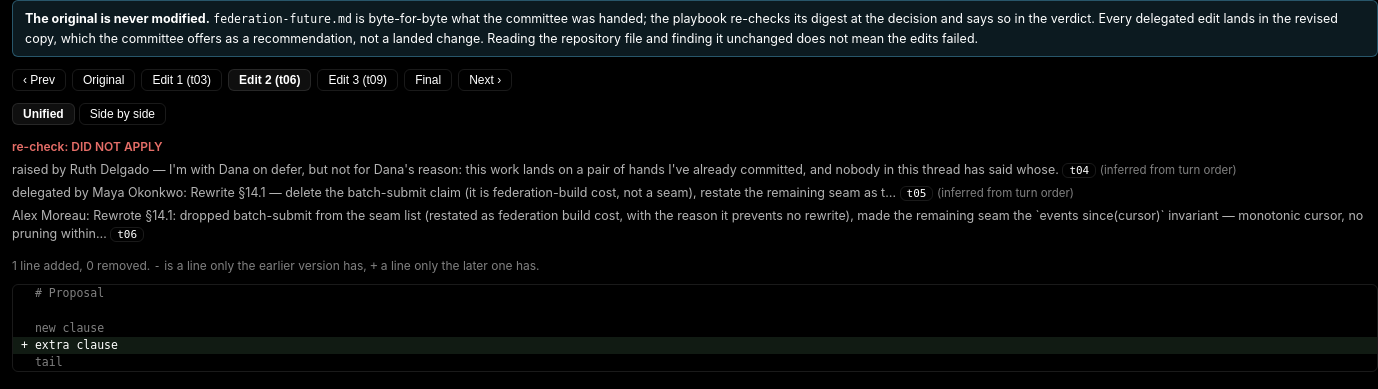
Scenario: DocumentHistory › takes the verdict from verified alone and shows the diff whatever it says
The width and height of the screenshot is (1378, 389).
expect the element with test id "diff-rows" shows "+ extra clause": met, box [12,284,1377,372]
expect the text with test id "step-verdict" shows "DID NOT APPLY": met, box [71,139,163,154]
Click the button with test id "step-9" at (358, 80), box [317,69,398,91]
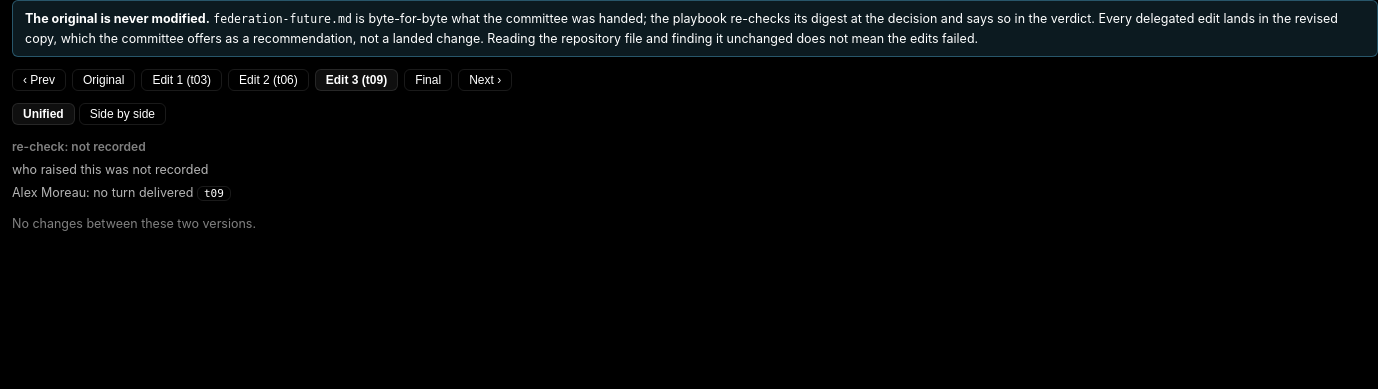
expect the text with test id "step-verdict" reads "re-check: not recorded": met, box [12,139,146,154]
